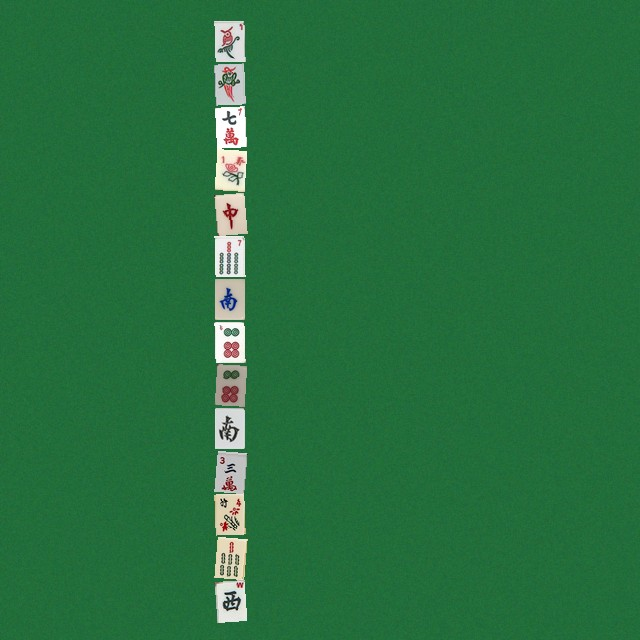tile: (214, 20, 244, 61), (214, 63, 244, 104), (214, 106, 244, 147), (214, 149, 244, 190), (214, 192, 244, 233), (214, 235, 244, 276), (214, 278, 244, 319), (214, 321, 244, 362), (214, 364, 244, 405), (214, 407, 244, 448), (214, 450, 244, 491), (214, 493, 244, 534), (214, 536, 244, 577), (214, 579, 244, 620)
